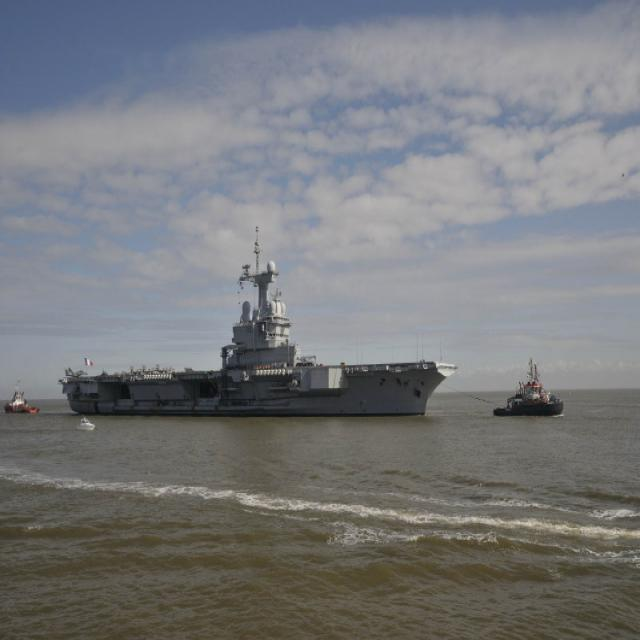Portanaves: (57, 214, 464, 423)
